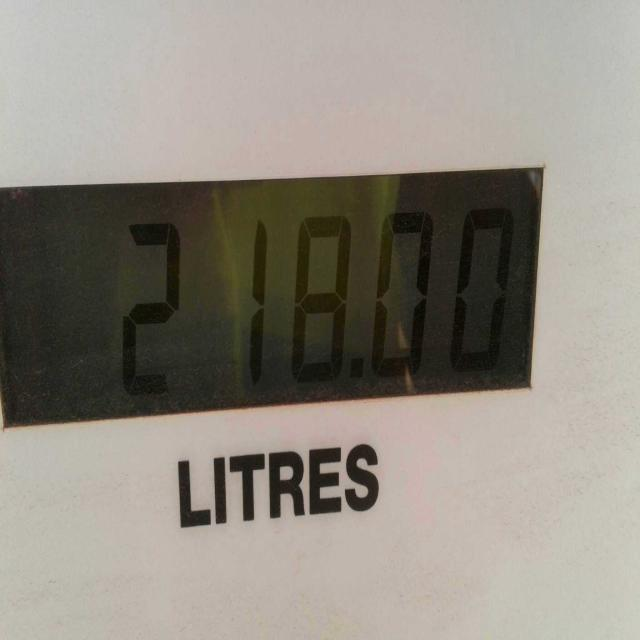.: (339, 347, 371, 398)
0: (365, 192, 440, 380), (449, 201, 516, 386)
1: (226, 208, 277, 401)
2: (101, 226, 192, 407)
8: (284, 206, 351, 388)
